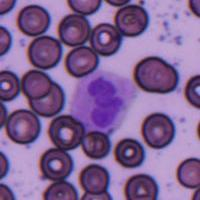N: (69, 69, 136, 134)
